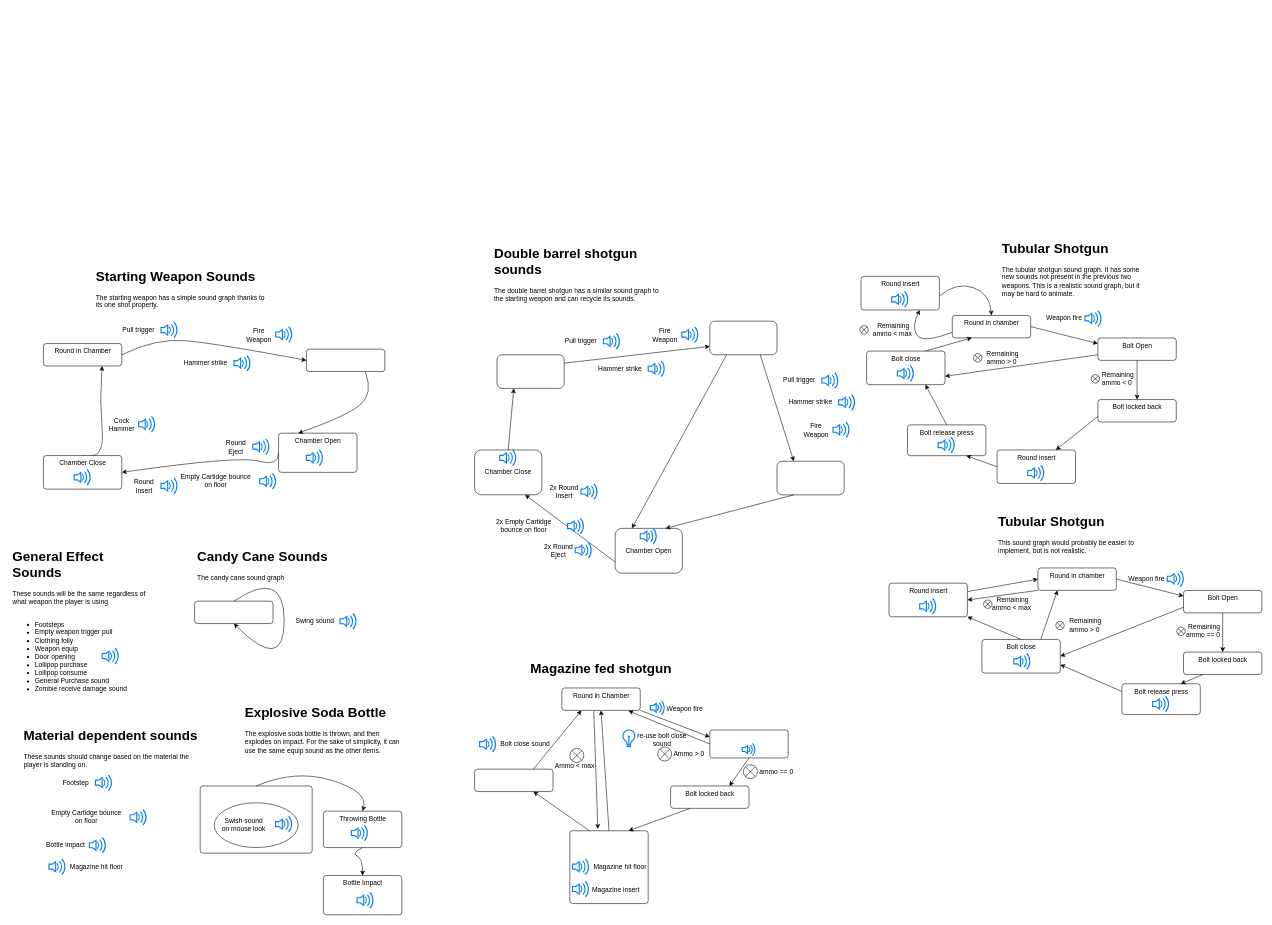
Image size: 1272x925. Some labels were removed from this diagram. The shapes that lost their labels are listed below. From the top down, each one's box as (x1, y1, x2, y2) in pixels, then its label:
(709, 321, 777, 355): One Round in Chamber
(306, 349, 385, 372): Chamber Empty
(496, 354, 564, 388): Two rounds in chamber
(776, 461, 844, 495): Two Empty Chambers
(194, 601, 273, 624): Idle
(709, 729, 788, 758): Bolt cycle
(474, 769, 553, 792): Bolt release
(200, 785, 312, 853): Holding Bottle
(569, 830, 648, 904): Magazine swap
